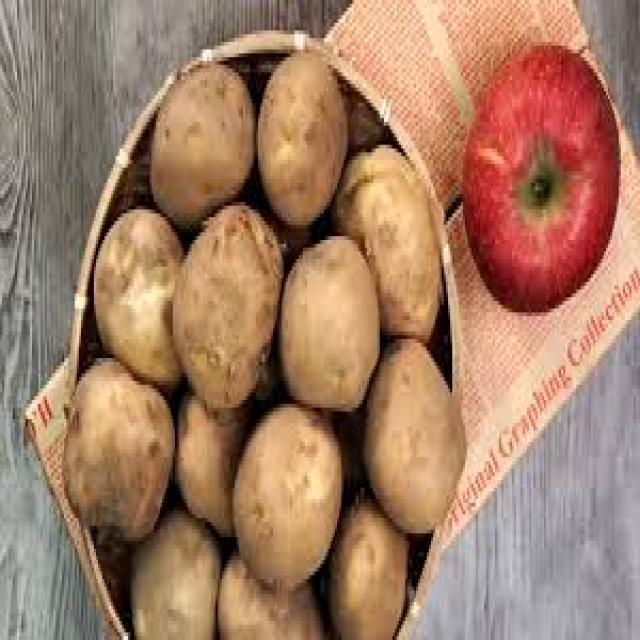Potato: (173, 202, 284, 411), (335, 145, 442, 341), (64, 358, 175, 545), (235, 404, 343, 590), (365, 339, 467, 533), (279, 236, 382, 410), (151, 61, 256, 229), (258, 53, 350, 229)
